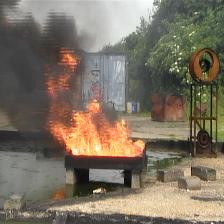fire: (45, 48, 145, 157)
